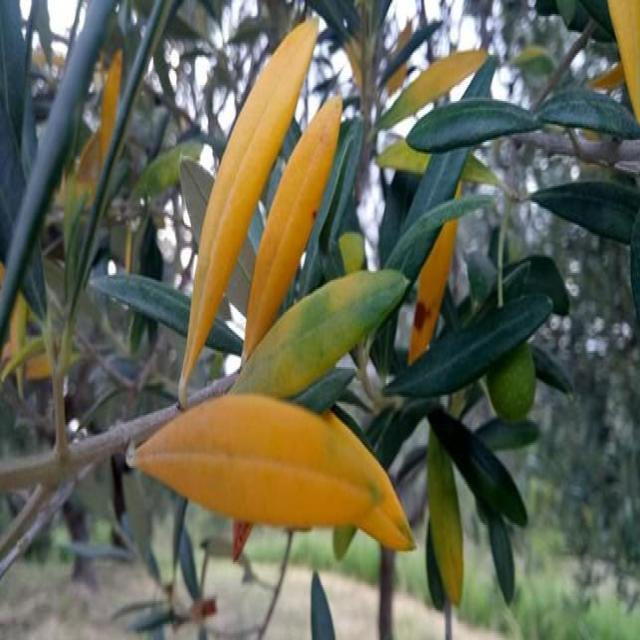Peacock Eye: (179, 20, 318, 397), (135, 393, 391, 527), (244, 98, 340, 355), (235, 269, 409, 397), (408, 220, 456, 362)
